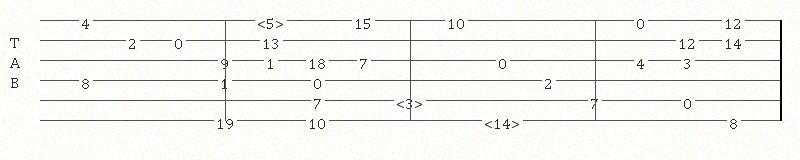0: (174, 33, 187, 47), (313, 73, 326, 87), (498, 53, 511, 67), (636, 13, 649, 27), (683, 93, 696, 107)
1: (220, 73, 233, 87), (266, 53, 279, 67)
10: (308, 113, 330, 127), (447, 13, 469, 27)
12: (678, 33, 700, 47), (724, 13, 746, 27)
13: (262, 33, 284, 47)
14: (724, 33, 746, 47)
15: (354, 13, 376, 28)
18: (308, 53, 330, 67)
19: (216, 113, 238, 127)
2: (128, 33, 141, 47), (544, 73, 557, 87)
3: (683, 53, 696, 67)
4: (81, 13, 94, 27), (636, 53, 649, 67)
7: (313, 93, 326, 107), (359, 53, 372, 67), (590, 93, 603, 107)
8: (81, 73, 94, 87), (729, 113, 742, 127)
9: (220, 53, 233, 67)
harmonic: (484, 113, 524, 127), (257, 13, 288, 28), (396, 93, 427, 107)
